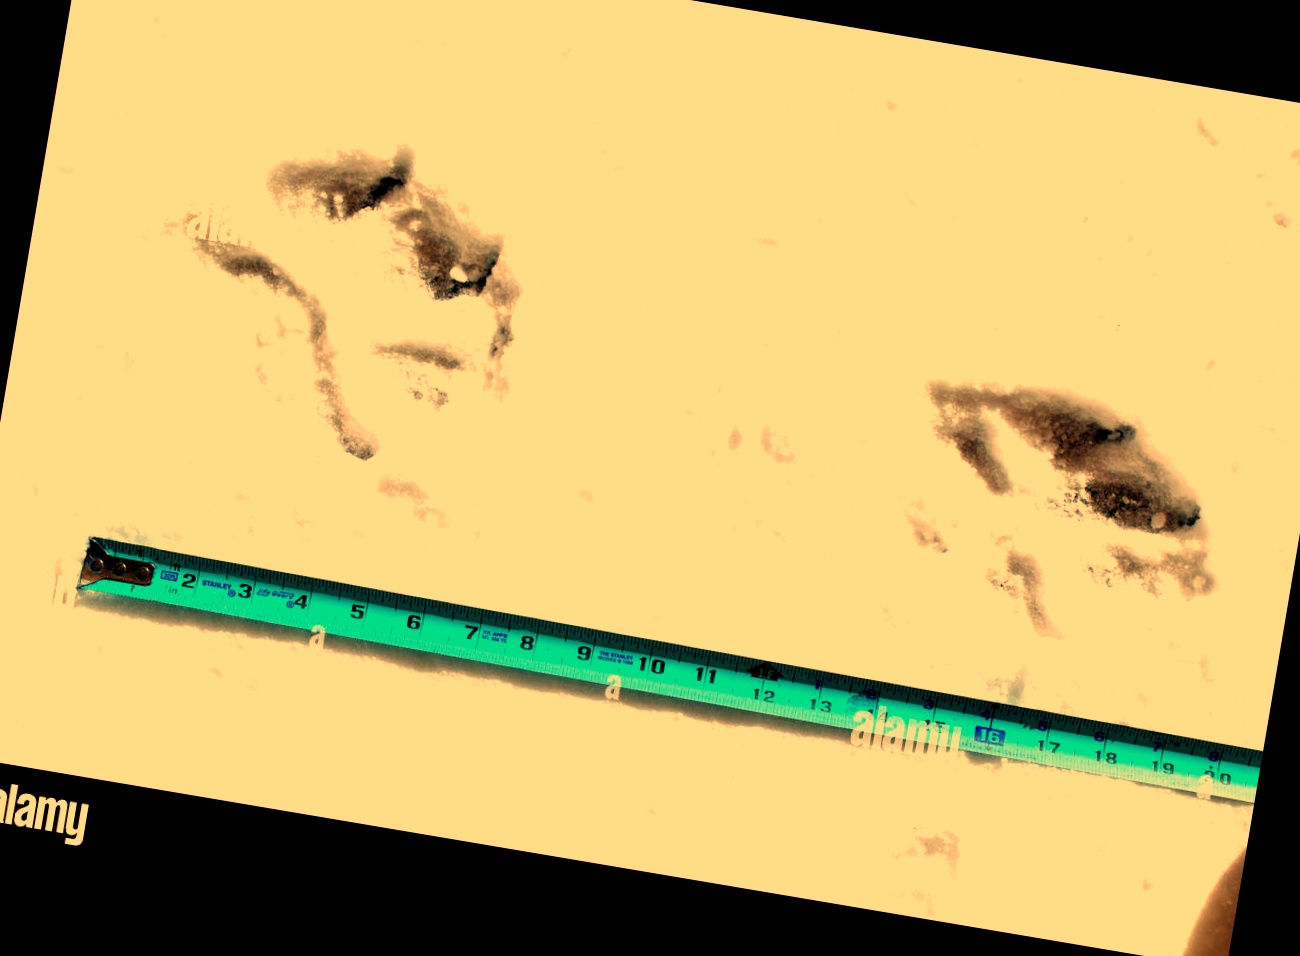loup: (817, 276, 1285, 607), (129, 149, 506, 550)
